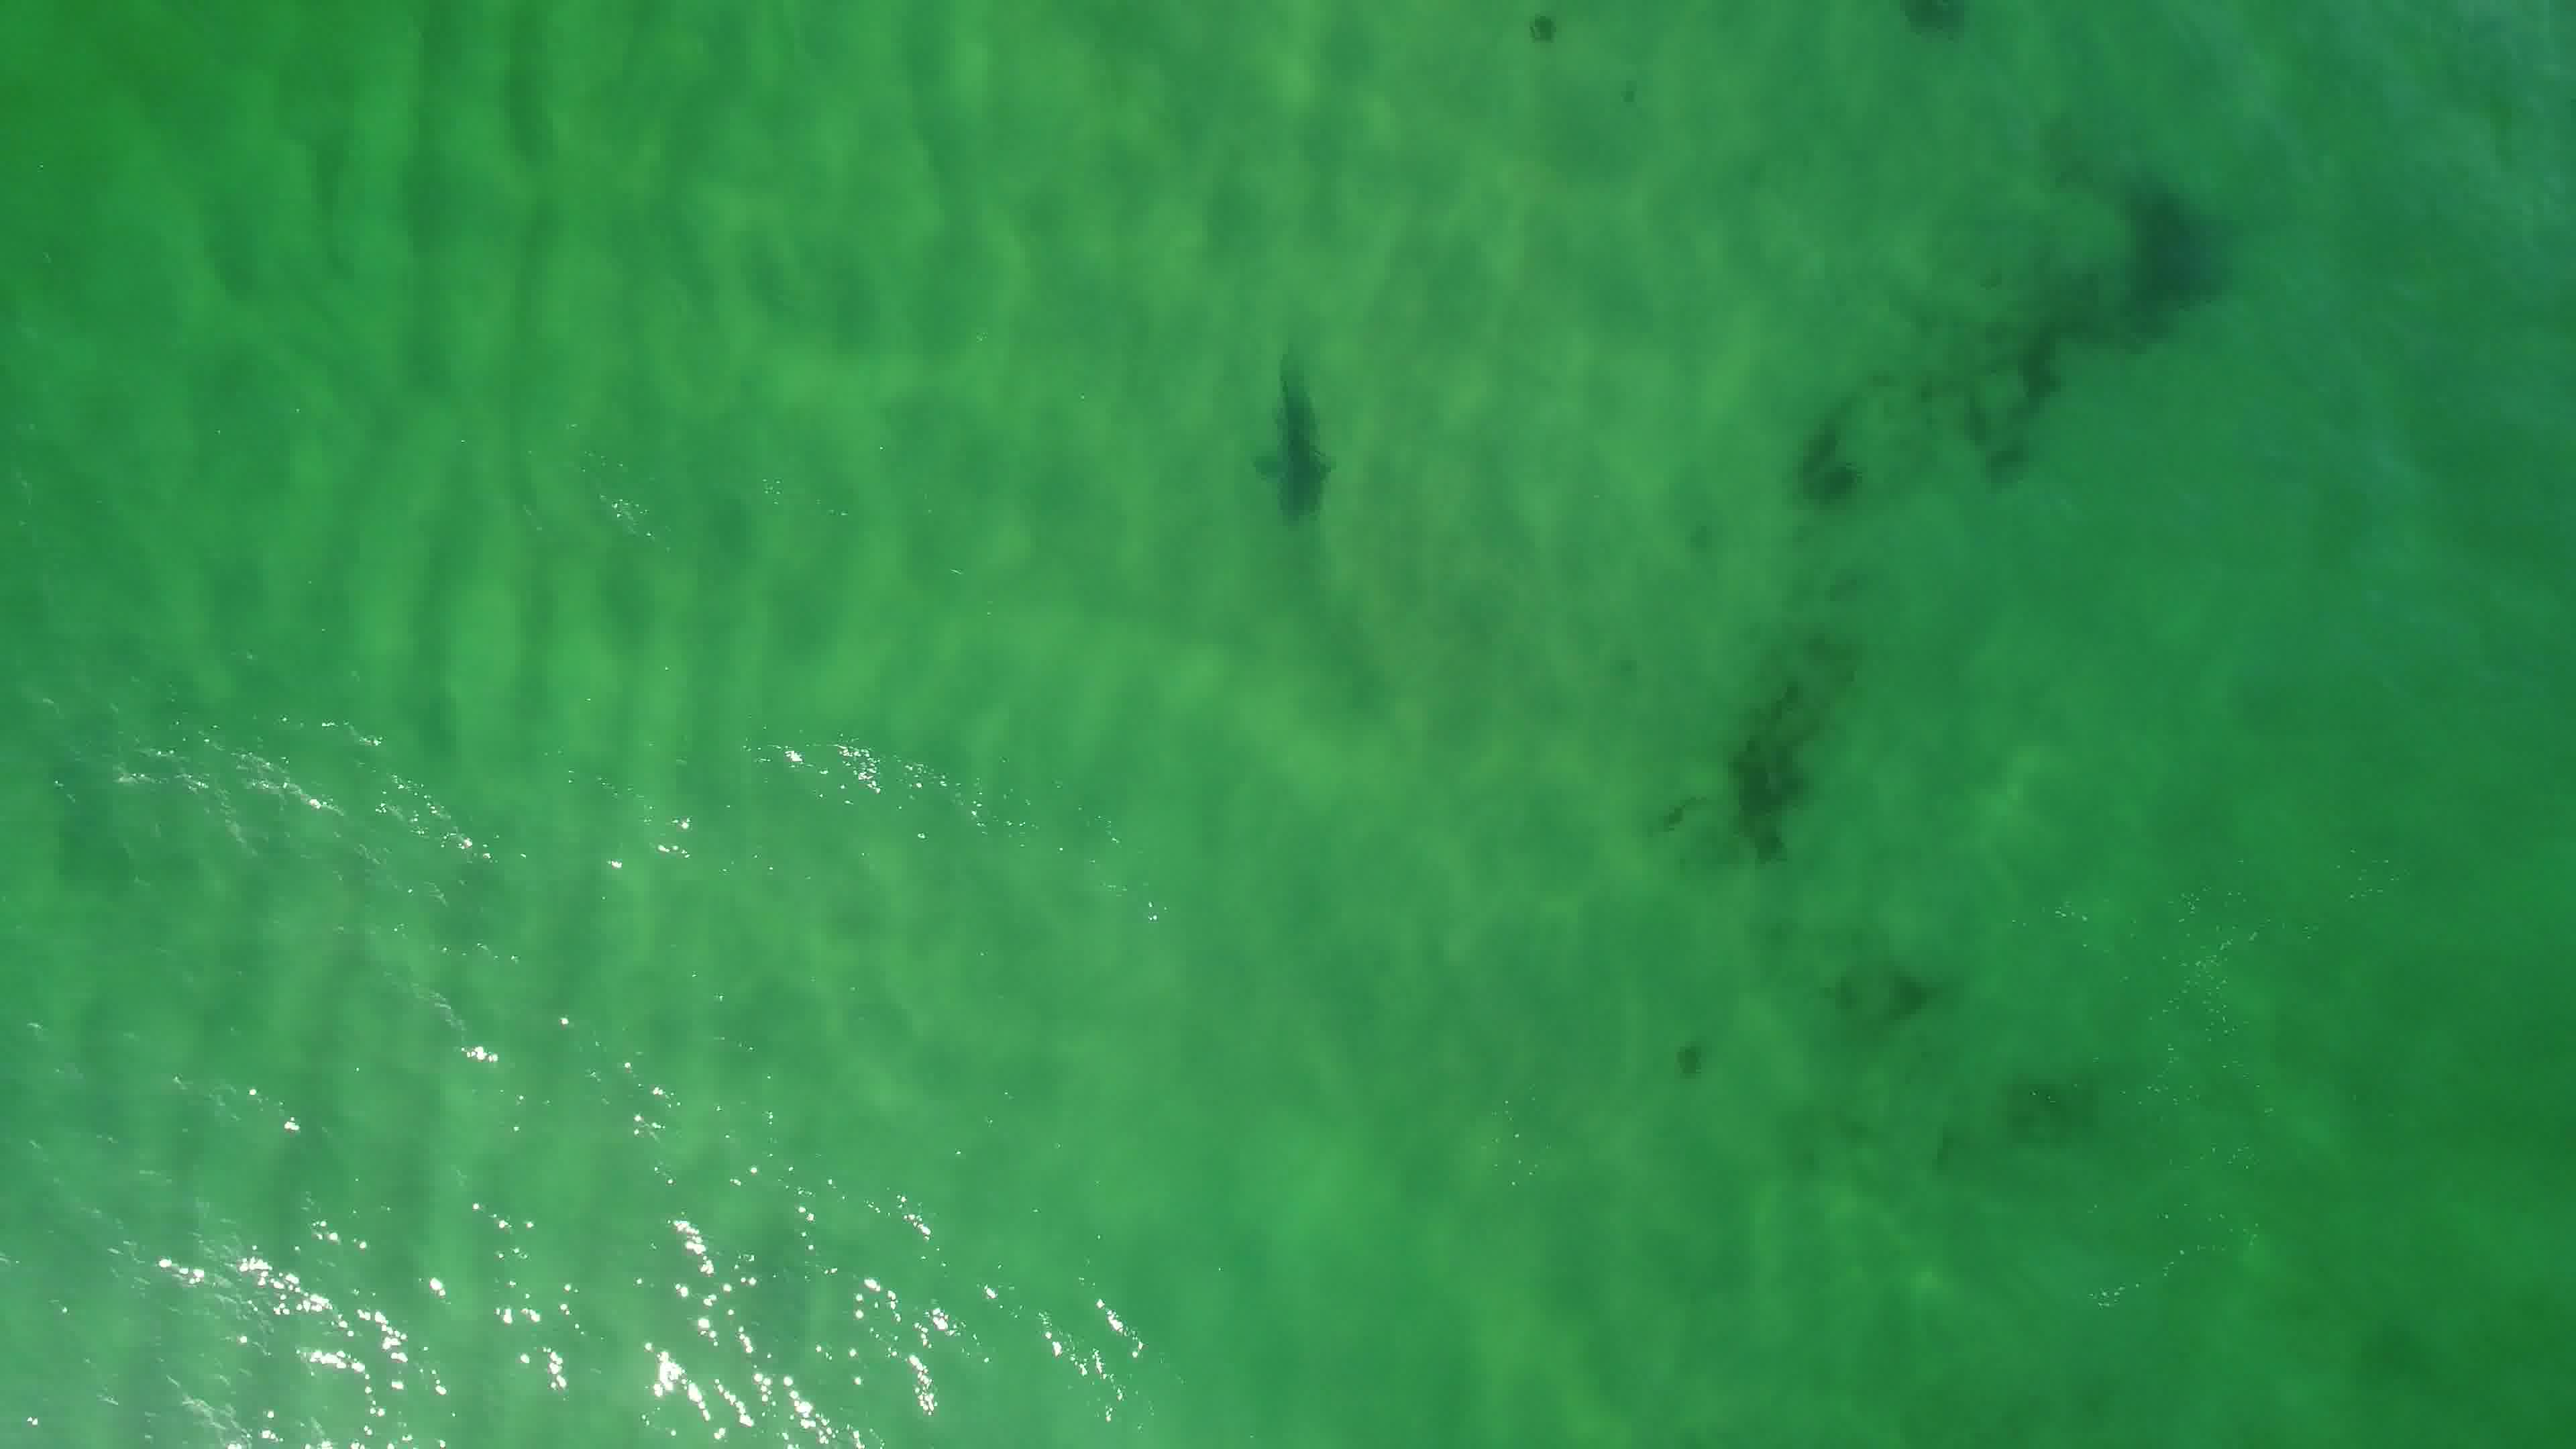shark: (1231, 372, 1343, 529)
